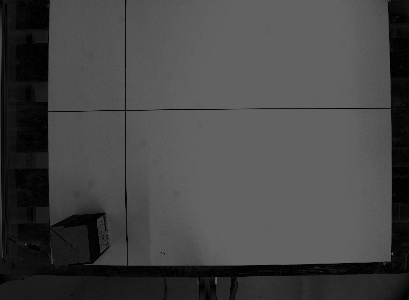b4: (48, 210, 111, 270)
